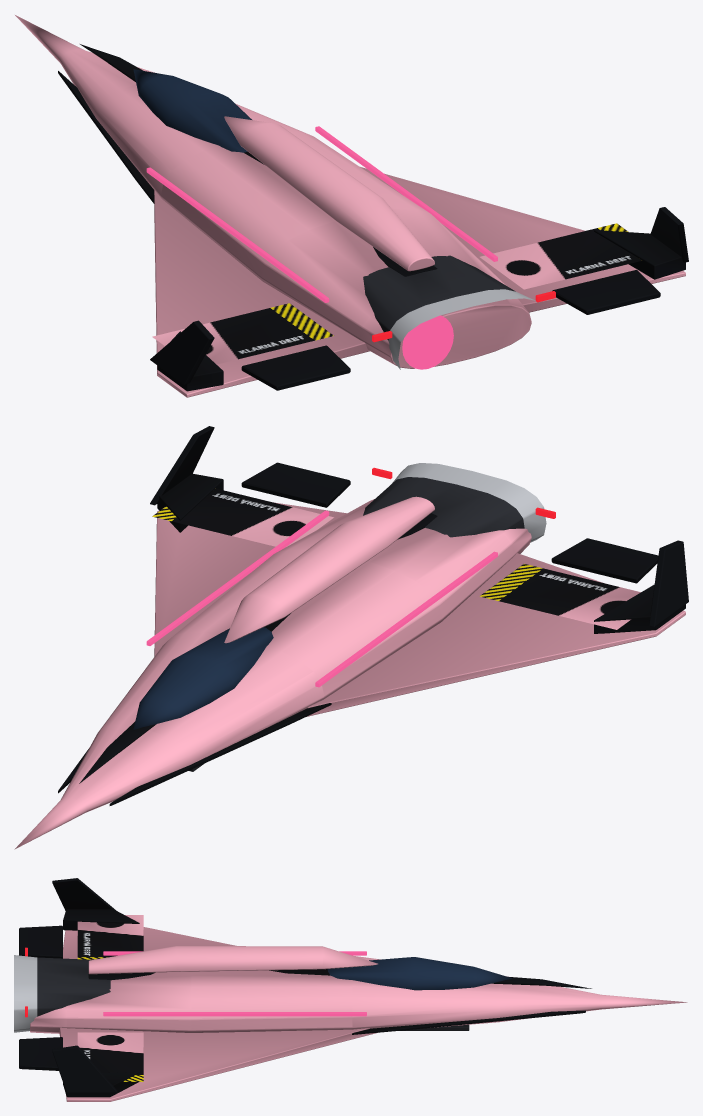
Rendered from craft_4.glb.
The picture shows the model from 3 angles, top to bottom: view 1: azimuth 30°, elevation 25°; view 2: azimuth 150°, elevation 25°; view 3: azimuth 270°, elevation 25°; orthographic projection. The views are drawn at different scales.
Visible parts, largest first — view 1: craft_4_body, craft_4_livery_R, craft_4_canopy, craft_4_livery_L, flap_L_plate.004, flap_R_plate.004; view 2: craft_4_body, craft_4_canopy, craft_4_livery_L, craft_4_livery_R, flap_R_plate.004, flap_L_plate.004; view 3: craft_4_body, craft_4_canopy, craft_4_livery_R, craft_4_livery_L, flap_L_plate.004, flap_R_plate.004.
Part boxes in pixels (x1,y1,x2,y2): craft_4_body: (15, 15, 688, 397); craft_4_livery_R: (480, 223, 642, 289); craft_4_canopy: (133, 69, 251, 152); craft_4_livery_L: (152, 303, 333, 364); flap_L_plate.004: (241, 345, 350, 390); flap_R_plate.004: (552, 270, 660, 314); craft_4_body: (14, 426, 688, 849); craft_4_canopy: (133, 627, 273, 729); craft_4_livery_L: (479, 563, 640, 629); craft_4_livery_R: (152, 488, 333, 547); flap_R_plate.004: (241, 462, 350, 507); flap_L_plate.004: (551, 538, 658, 583); craft_4_body: (14, 878, 687, 1101); craft_4_canopy: (327, 957, 512, 990); craft_4_livery_R: (77, 1032, 143, 1081); craft_4_livery_L: (77, 915, 143, 959); flap_L_plate.004: (19, 925, 62, 958); flap_R_plate.004: (19, 1037, 62, 1070).
Size of the model in its own units: 5.86 by 1.09 by 9.22.
Materials: 9 (1 with a texture image).
